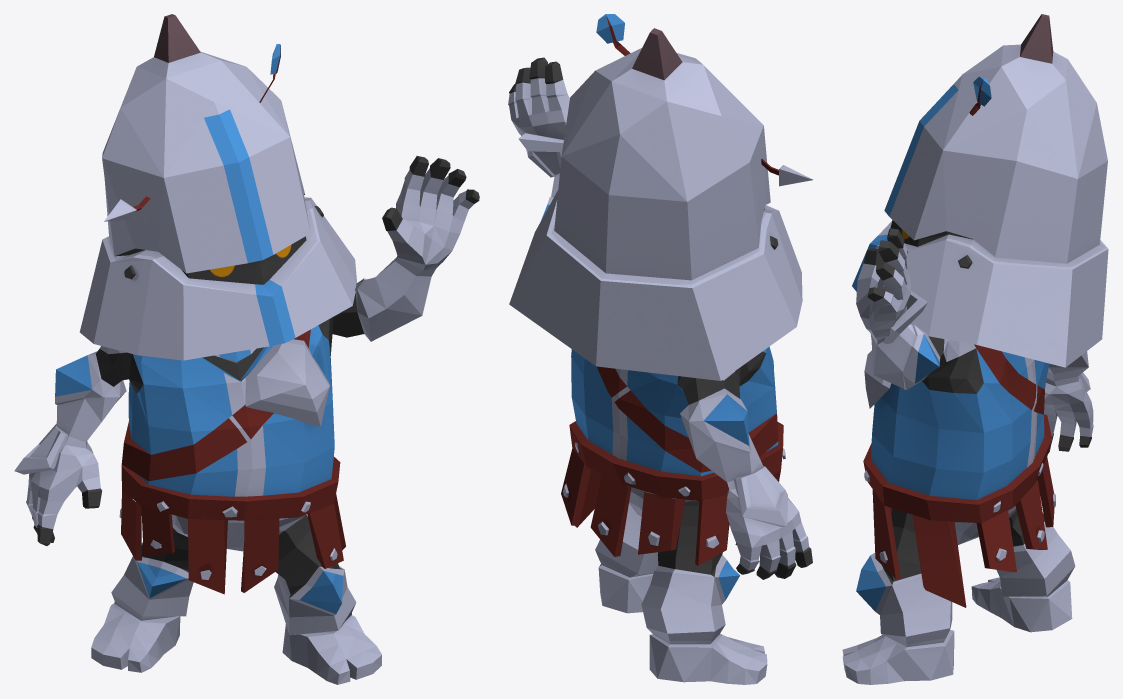
The model's file is SK_Lowpoly_44.gltf.
The picture shows the model from 3 angles, left to right: view 1: azimuth 30°, elevation 25°; view 2: azimuth 150°, elevation 25°; view 3: azimuth 270°, elevation 25°; orthographic projection. The views are drawn at different scales.
Visible parts, largest first — view 1: SK_Lowpoly_Male_044_pose2_StaticMeshComponent0; view 2: SK_Lowpoly_Male_044_pose2_StaticMeshComponent0; view 3: SK_Lowpoly_Male_044_pose2_StaticMeshComponent0.
Boxes of the visible parts, x1,y1,x2,y2 form: SK_Lowpoly_Male_044_pose2_StaticMeshComponent0: [14, 14, 479, 684]; SK_Lowpoly_Male_044_pose2_StaticMeshComponent0: [508, 14, 813, 684]; SK_Lowpoly_Male_044_pose2_StaticMeshComponent0: [842, 14, 1108, 684].
Bounding box in the file's own units: 1.03 × 1.67 × 0.653.
Materials: 1 (1 with a texture image).
